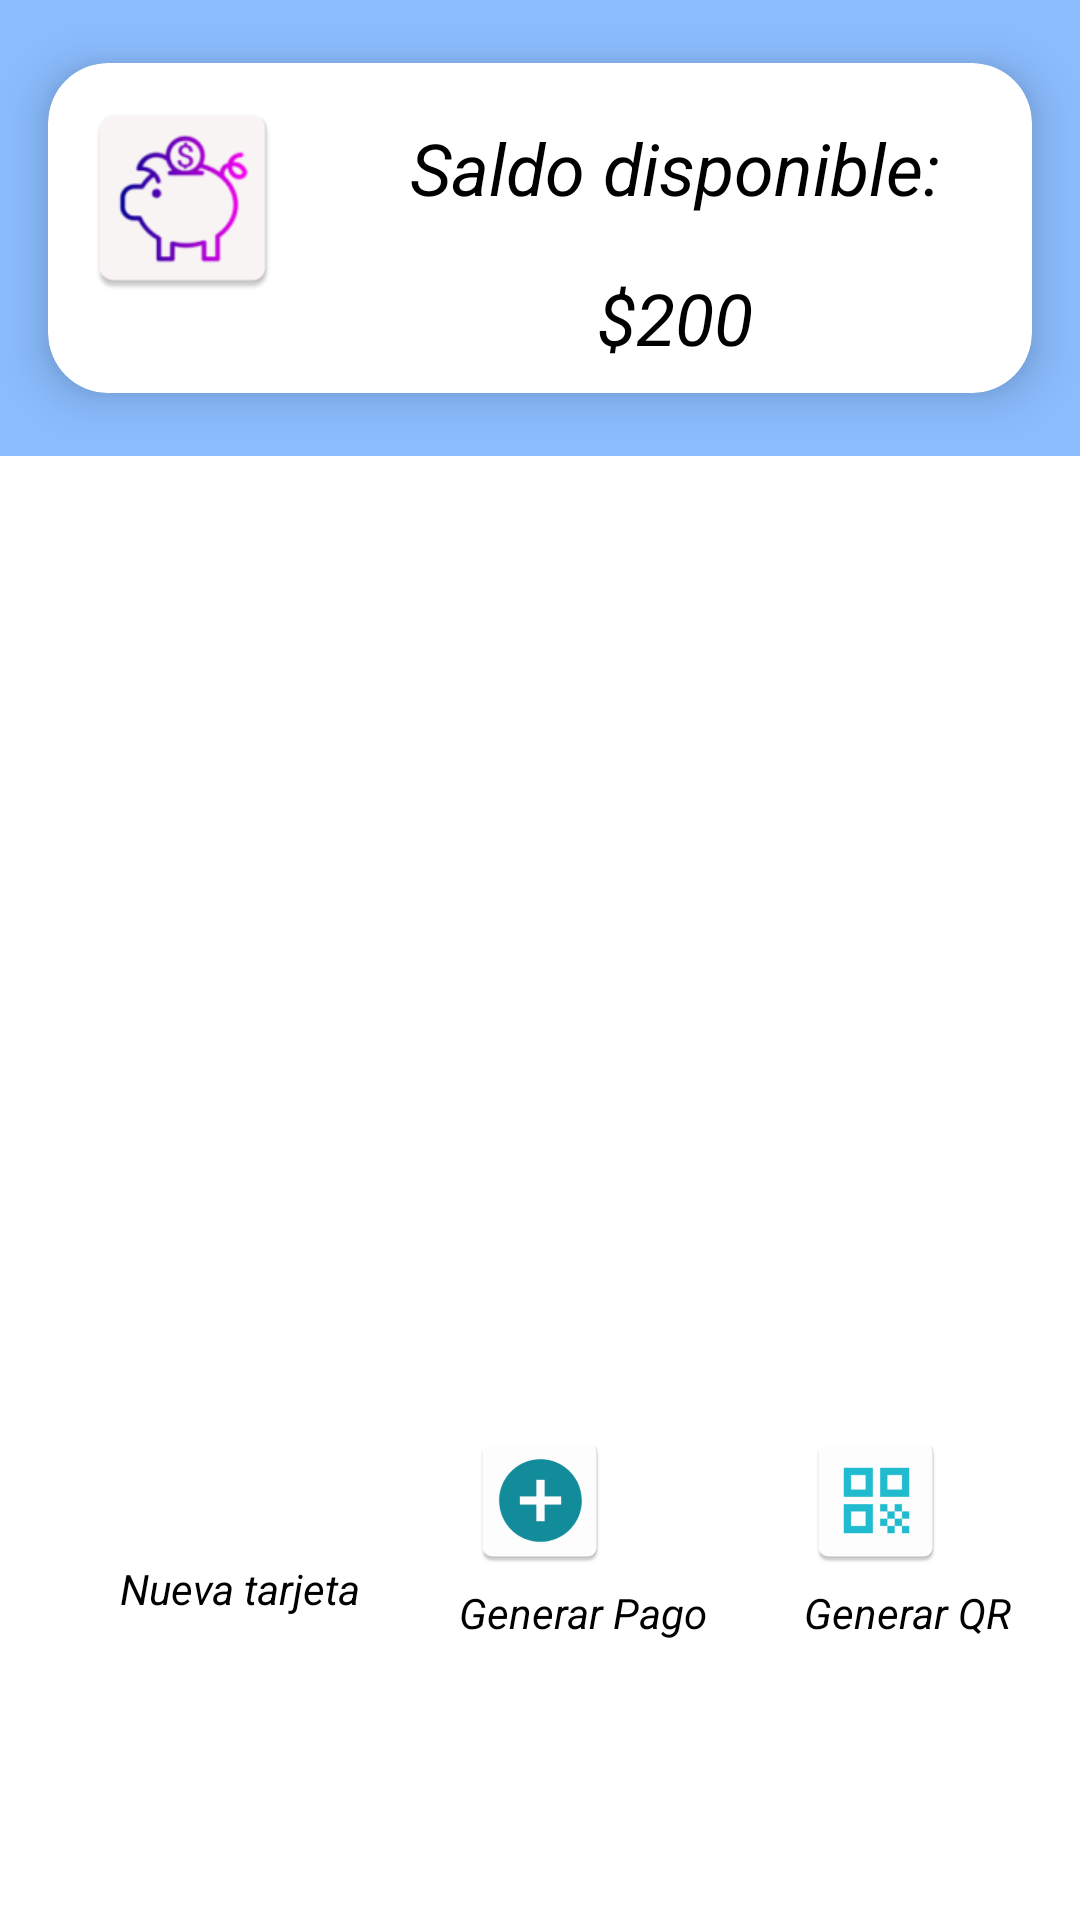

Where to tap for icons on this 1080x1920 app screen, as point (x, y):
balance: point (183, 201)
